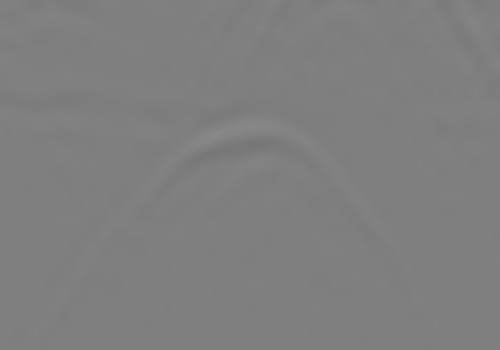hyperbola: (102, 98, 357, 275)
